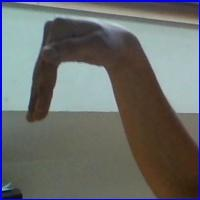A: (14, 15, 156, 140)
